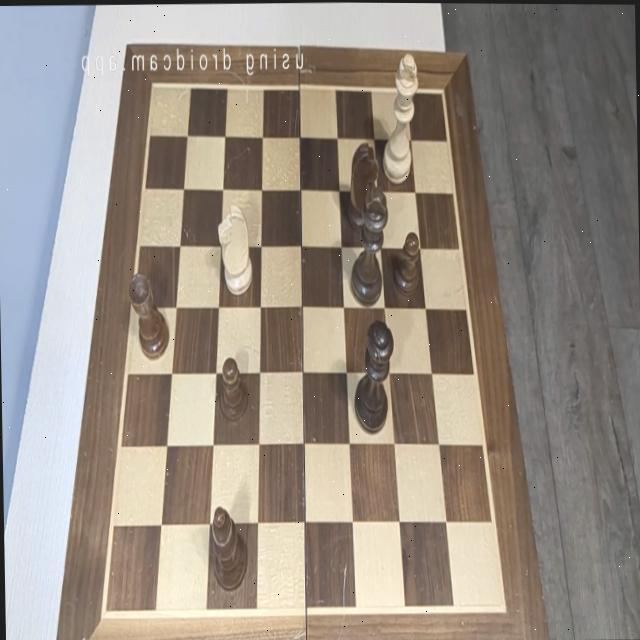black_king: (348, 186, 389, 305)
black_knight: (346, 140, 379, 228)
black_pawn: (208, 505, 248, 592), (392, 231, 422, 294), (219, 356, 248, 421)
black_queen: (352, 318, 396, 434)
black_rook: (128, 271, 170, 359)
white_king: (381, 52, 420, 182)
white_knight: (216, 204, 252, 296)
